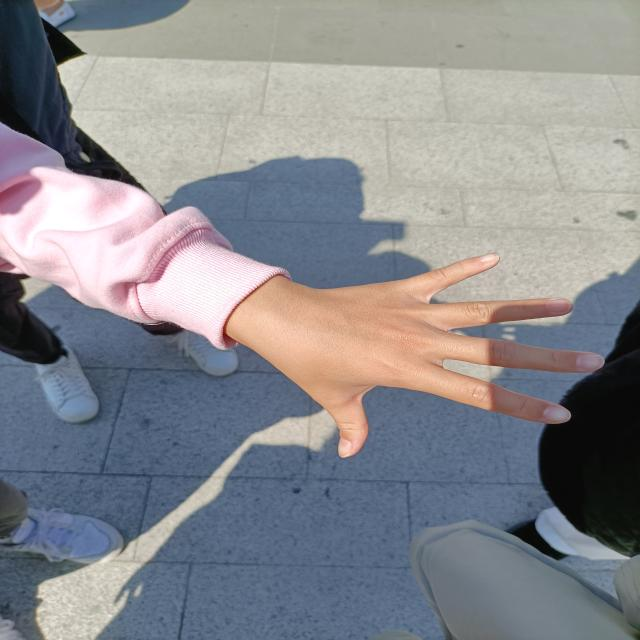no_glove: (228, 223, 622, 469)
